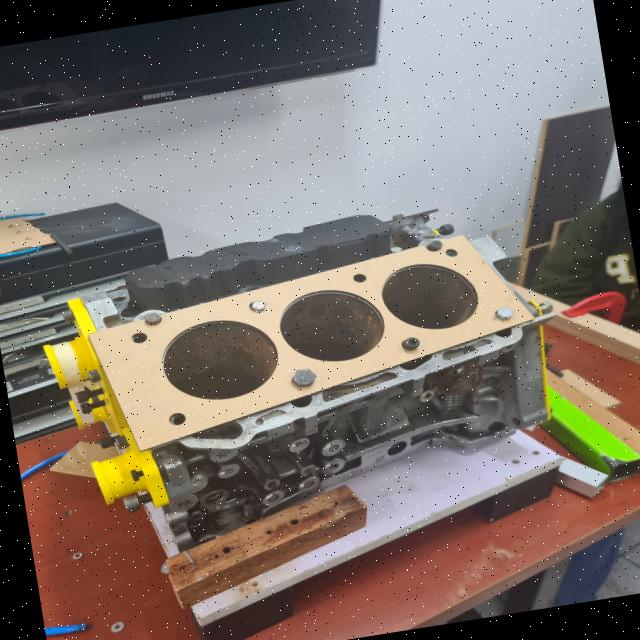tor_v1: (88, 235, 535, 452)
